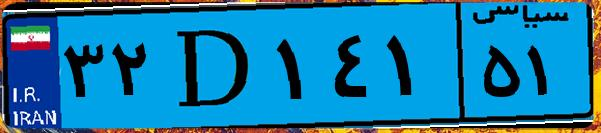1: (270, 28, 330, 110), (385, 28, 445, 110), (525, 38, 570, 115)
2: (110, 28, 158, 98)
3: (57, 26, 110, 100)
4: (330, 28, 385, 110)
5: (475, 38, 525, 113)
D: (158, 12, 270, 120)
